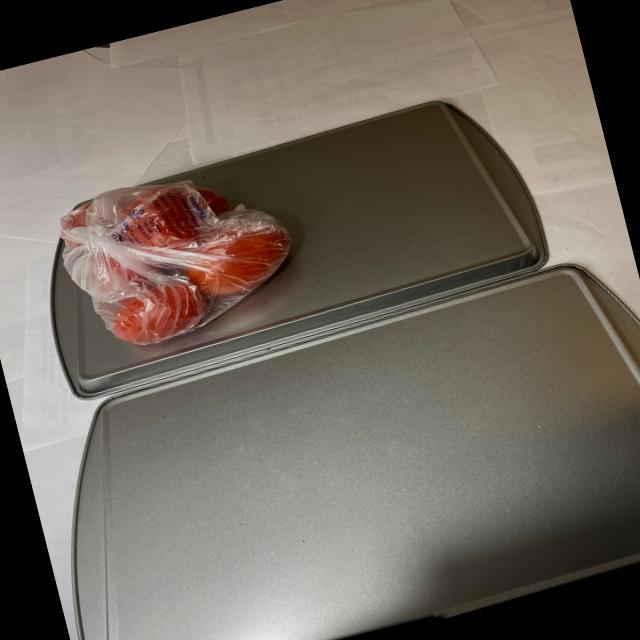tomato: (52, 152, 314, 359)
